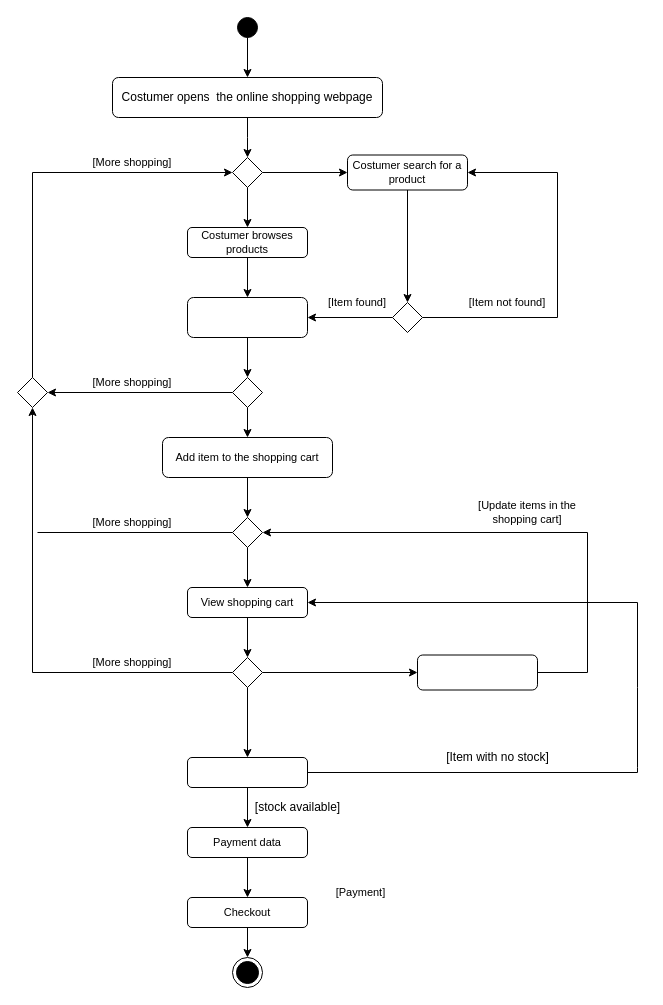
Image size: 663x1005. Some labels were removed from this diagram. The box of each missing label's shape, as (x1, y1, x2, y2) in pixels:
Check for stock: (186, 756, 308, 788)
Update shopping cart: (416, 654, 538, 690)
View Product: (186, 296, 308, 338)
